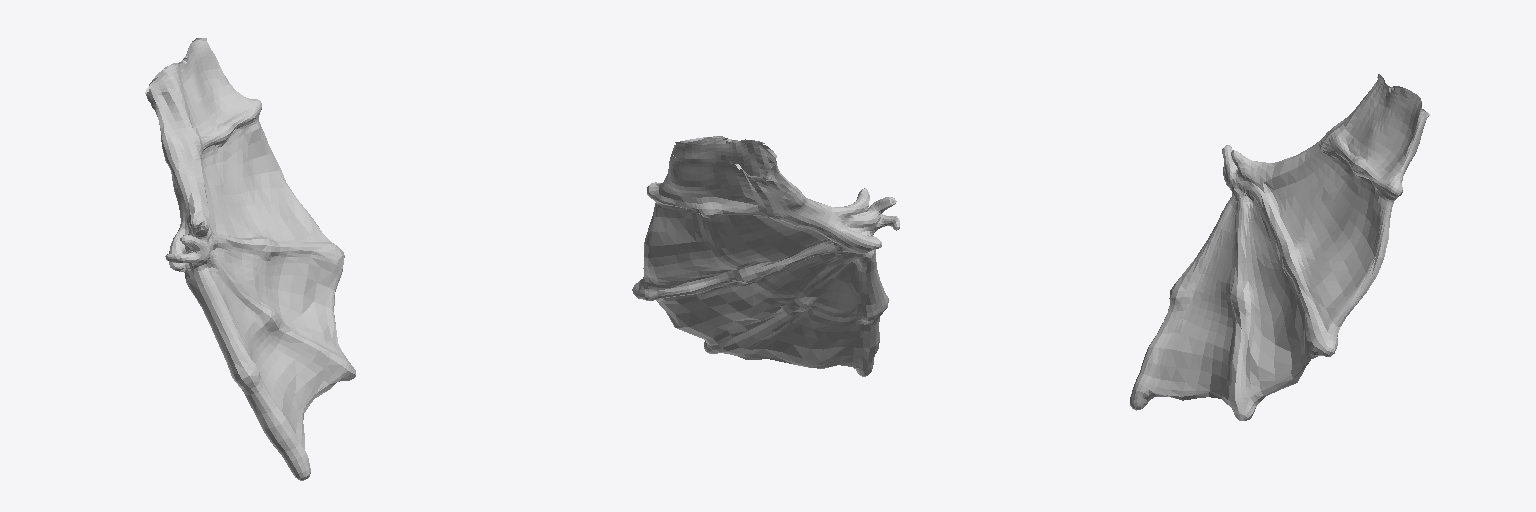
Rendered from alaizquierda.obj.
3 views of the same model, side by side, from view 1: azimuth 30°, elevation 25°; view 2: azimuth 150°, elevation 25°; view 3: azimuth 270°, elevation 25° (orthographic).
Parts seen in each view (by area): view 1: Ala_Izquierda; view 2: Ala_Izquierda; view 3: Ala_Izquierda.
Part boxes in pixels (left/top/right/bottom): Ala_Izquierda: left=145, top=38, right=355, bottom=480; Ala_Izquierda: left=632, top=136, right=899, bottom=376; Ala_Izquierda: left=1130, top=74, right=1429, bottom=420.
Size of the model in its own units: 6.31 by 9.03 by 7.41.